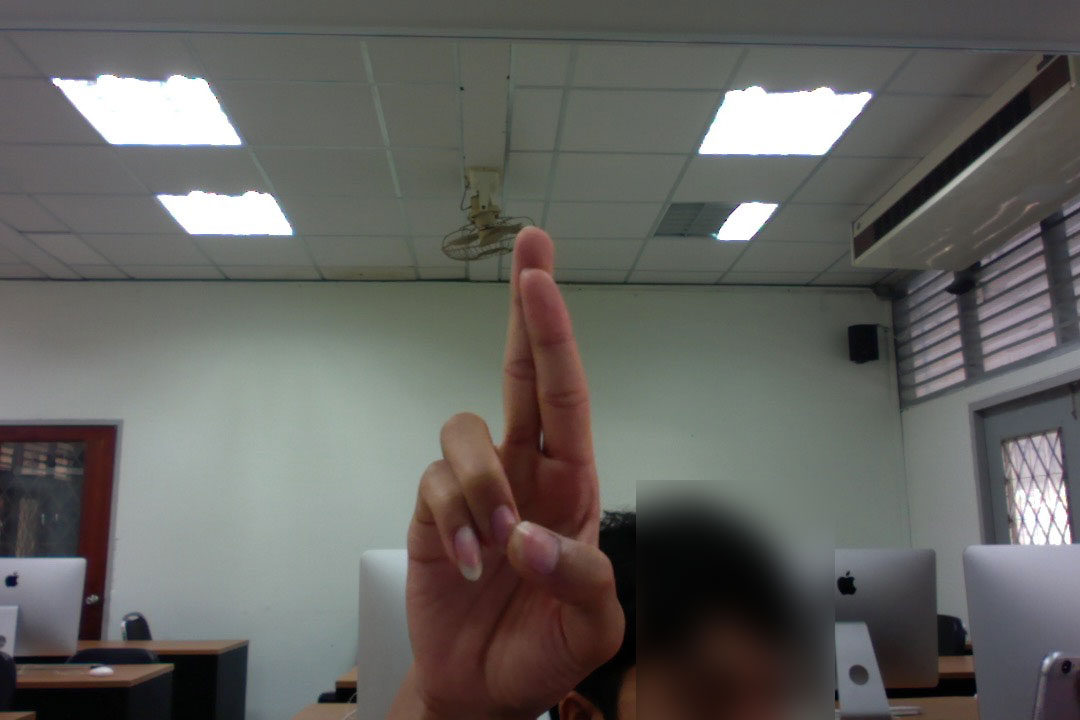rao: (397, 214, 632, 715)
